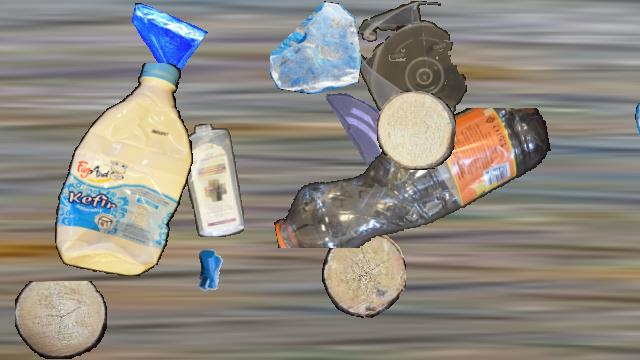glass: (270, 1, 362, 93), (321, 89, 405, 173), (126, 1, 208, 83), (635, 88, 640, 162)
metal: (180, 241, 242, 303)
plastic: (269, 108, 553, 248), (51, 63, 193, 275), (356, 1, 468, 133), (183, 124, 243, 236)
wood: (322, 232, 406, 318), (15, 281, 107, 359), (377, 91, 455, 169)
